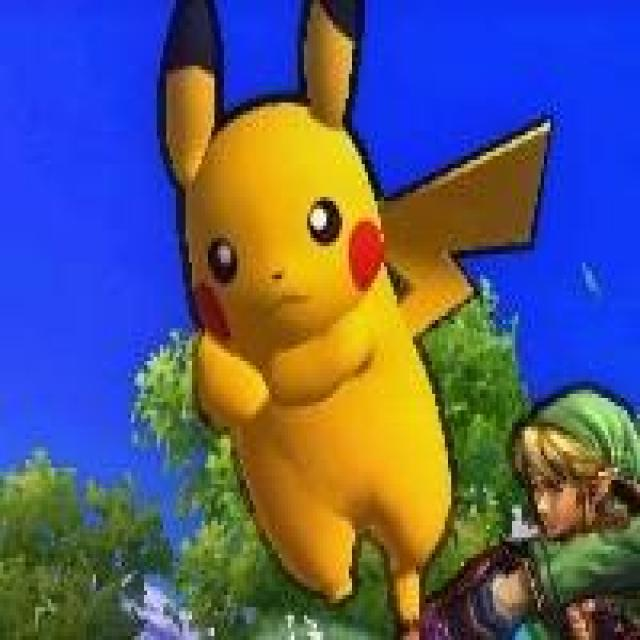pikachu: (161, 0, 549, 625)
